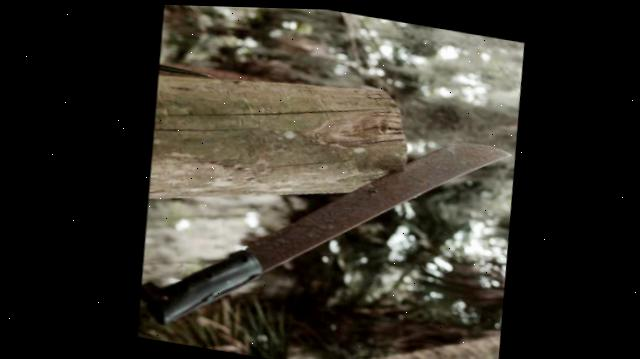long knife: (123, 81, 524, 359)
